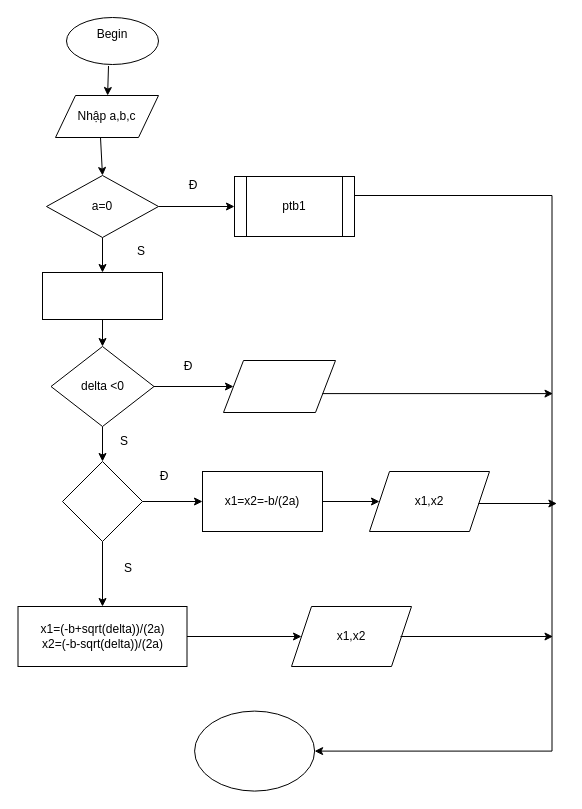
Image size: 582x809. Some labels were removed from this diagram. The centre of each missing label's shape, as x and y in pixels:
delta = b*b-4*a*c: (x=102, y=296)
delta =0: (x=102, y=501)
End: (x=254, y=750)
Vô nghiệm: (x=279, y=386)
